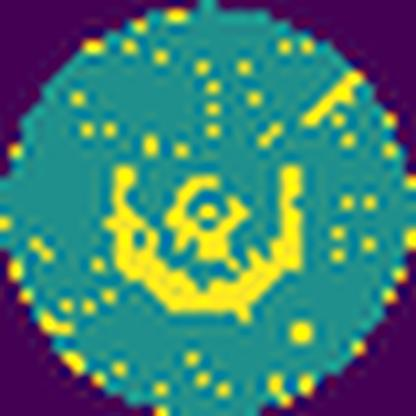Donut: (101, 115, 306, 326)
